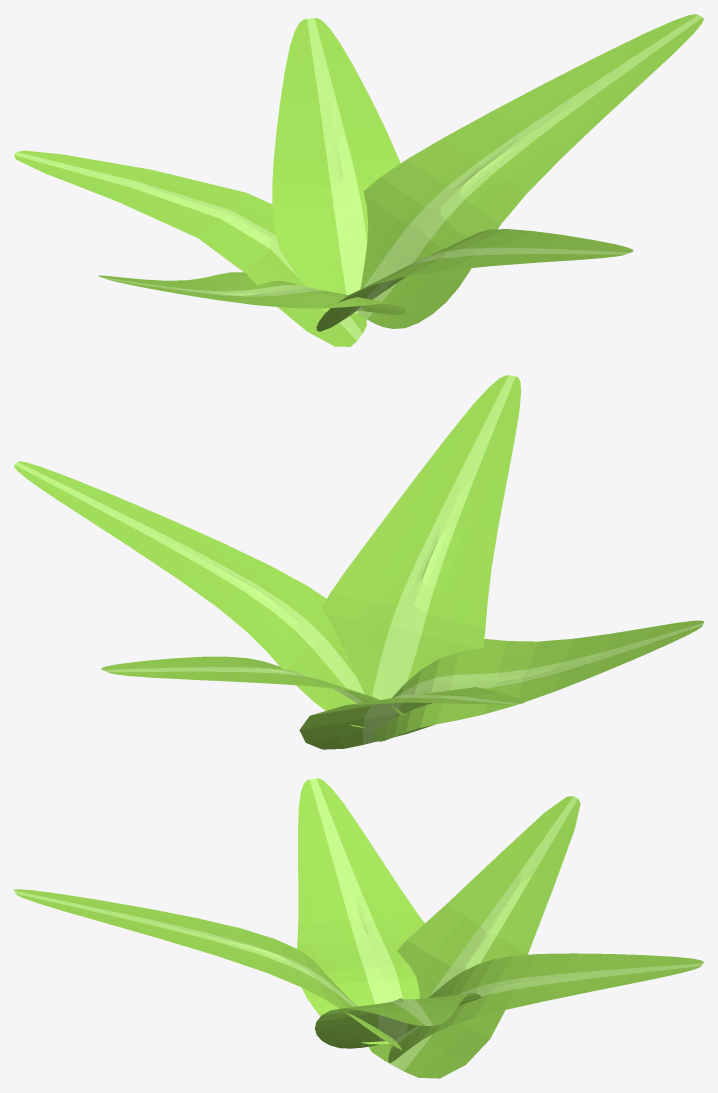
File: buisson_01.glb
The picture shows the model from 3 angles, top to bottom: view 1: azimuth 30°, elevation 25°; view 2: azimuth 150°, elevation 25°; view 3: azimuth 270°, elevation 25°; orthographic projection. The views are drawn at different scales.
Visible parts, largest first — view 1: buisson; view 2: buisson; view 3: buisson.
Part boxes in pixels (x1,y1,x2,y2): buisson: (14,14,703,346); buisson: (14,375,703,749); buisson: (14,778,703,1078).
Size of the model in its own units: 2.62 by 0.841 by 2.57.
